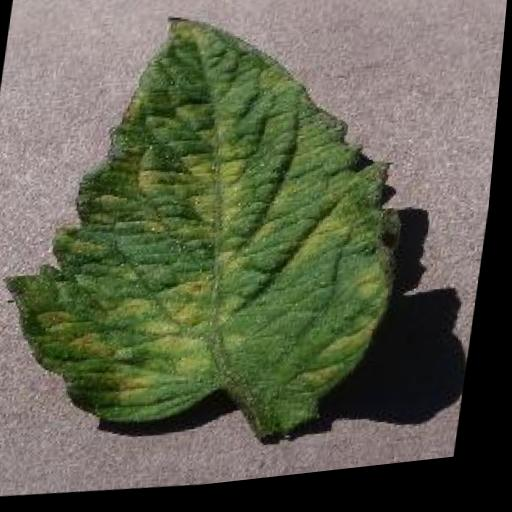Leaf Mold: (0, 0, 433, 476)
